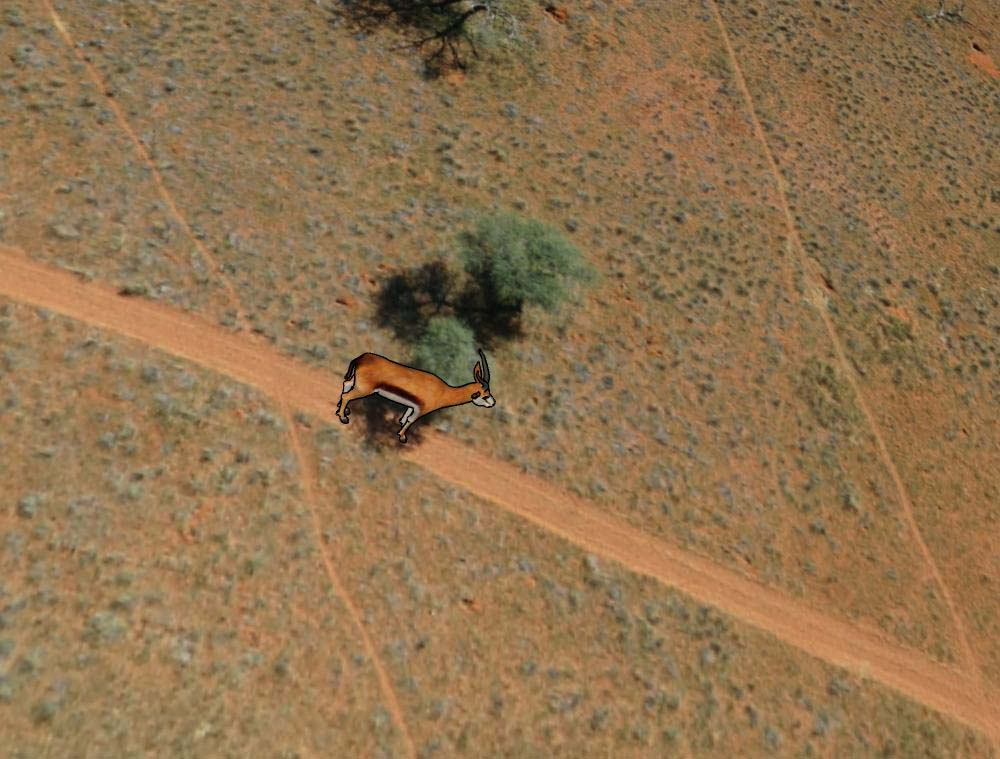springbok: (330, 342, 496, 457)
